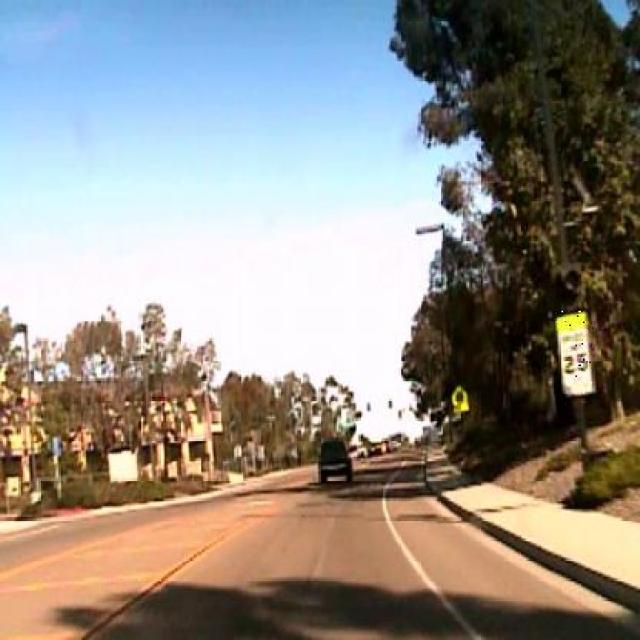school: (451, 384, 467, 406)
schoolSpeedLimit25: (557, 311, 597, 396)
